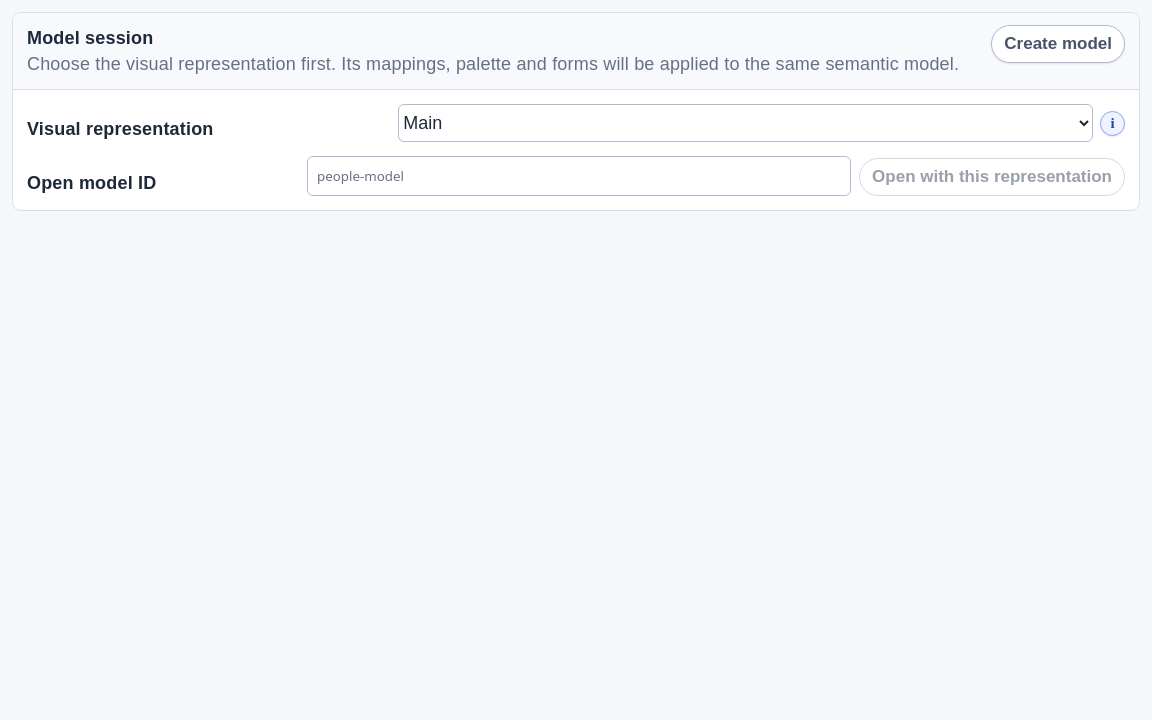
Scenario: neutral editor runtime session › switches to the selected imported representation and renders its returned projection
Click the button "Create model" at (1058, 44), box [991,25,1125,63]
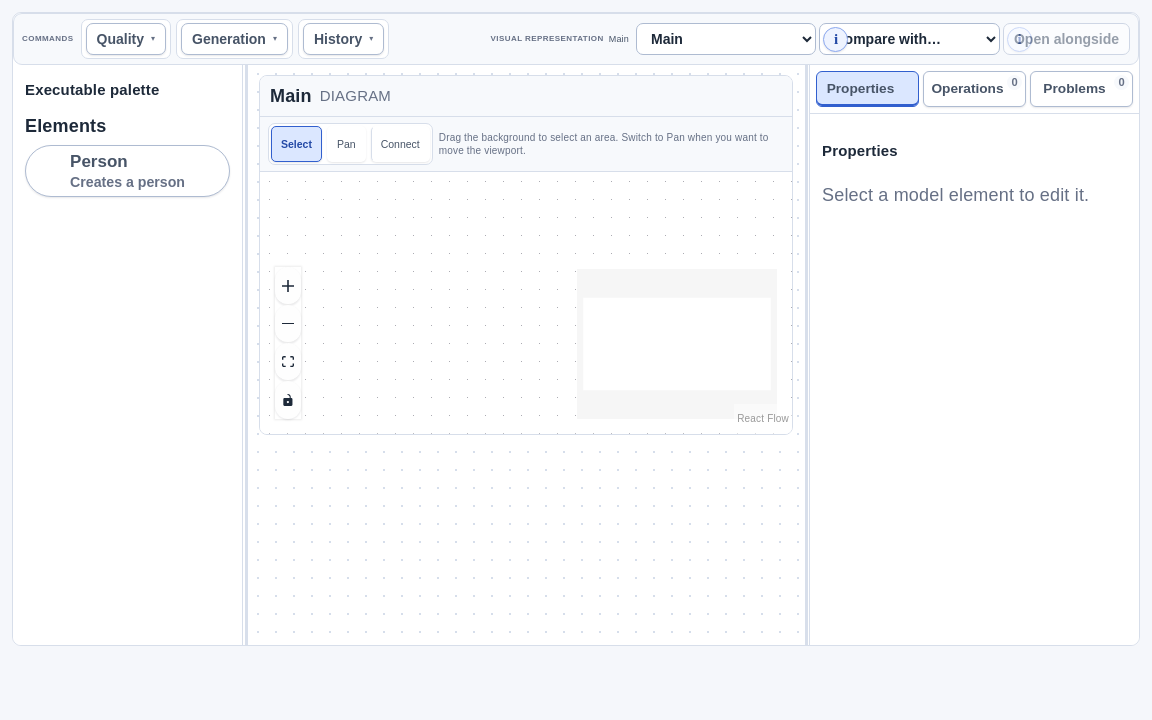
expect the element named "Model editor session" is shown: met
Select "Imported table" in the dropdown named "Visual representation" at (726, 39), box [636,23,816,55]
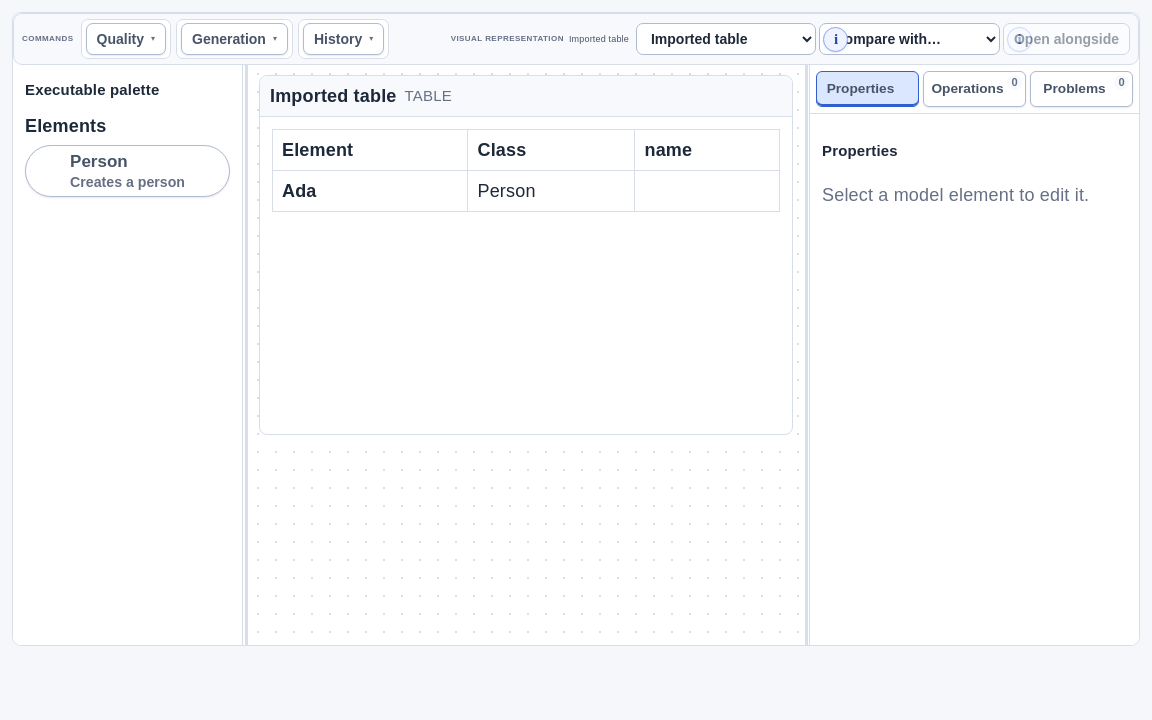
expect the table is shown: met, box [272,129,780,212]
expect the column heading "Ada" is shown: met, box [272,171,468,212]
